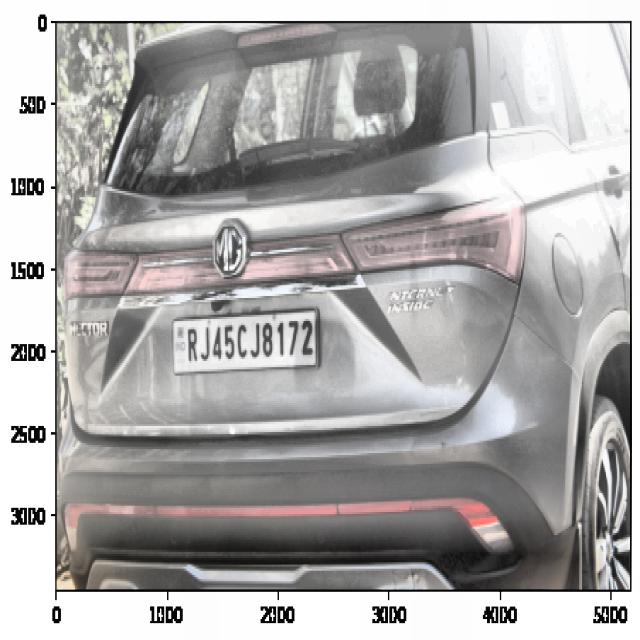license_plate: (180, 316, 319, 368)
